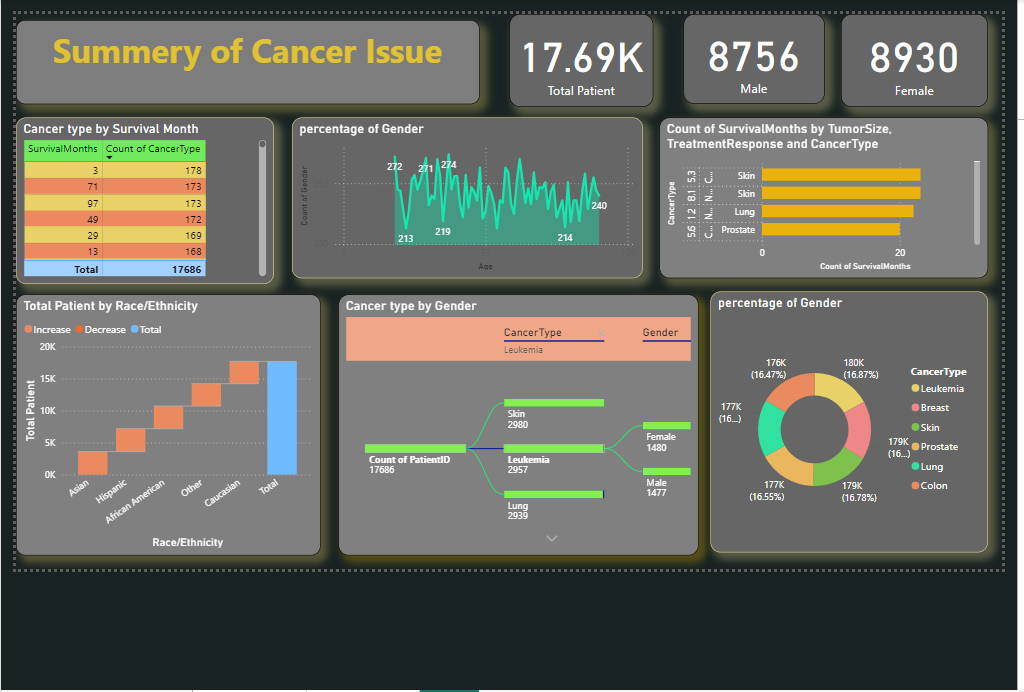

The page's visual inventory and layout, read from the dashboard file:
{"tool":"powerbi","page":{"name":"Page 1","canvas":[1280,720],"ordinal":1},"visuals":[{"type":"card","fields":{"Values":["CountNonNull(cancer issue (1).PatientID)"]},"box":[640.6,0,186.9,120.7],"z":0},{"type":"card","fields":{"Values":["CountNonNull(cancer issue (1).Gender)"]},"box":[1071,0,190.8,120.7],"z":1000},{"type":"card","fields":{"Values":["CountNonNull(cancer issue (1).PatientID)"]},"box":[866.5,0,183,116.8],"z":2000},{"type":"tableEx","title":"Cancer type by Survival Month","fields":{"Values":["cancer issue (1).SurvivalMonths","CountNonNull(cancer issue (1).CancerType)"]},"box":[0,134.4,334.9,216.1],"z":3000},{"type":"textbox","box":[0,7.8,601.7,109],"z":4000},{"type":"waterfallChart","fields":{"Category":["cancer issue (1).Race/Ethnicity"],"Y":["CountNonNull(cancer issue (1).PatientID)"]},"box":[0,364.1,395.3,338.8],"z":5000},{"type":"donutChart","title":"percentage of Gender","fields":{"Category":["cancer issue (1).CancerType"],"Y":["Sum(cancer issue (1).SurvivalMonths)"]},"box":[901.6,360.2,360.2,338.8],"z":6000},{"type":"decompositionTreeVisual","title":"Cancer type by Gender","fields":{"Analyze":["CountNonNull(cancer issue (1).PatientID)"],"ExplainBy":["cancer issue (1).CancerType","cancer issue (1).Gender"]},"box":[418.7,364.1,467.3,338.8],"z":7000},{"type":"barChart","fields":{"Category":["cancer issue (1).TumorSize","cancer issue (1).TreatmentResponse","cancer issue (1).CancerType"],"Y":["CountNonNull(cancer issue (1).SurvivalMonths)"]},"box":[835.4,134.4,426.5,208.4],"z":8000},{"type":"areaChart","title":"percentage of Gender","fields":{"Category":["cancer issue (1).Age"],"Y":["CountNonNull(cancer issue (1).Gender)"]},"box":[358.3,134.4,455.7,208.4],"z":9000}]}

Visuals, with their boxes in screenshot pixels (x1, y1, x2, y2):
card - CountNonNull(cancer issue (1).PatientID): [x1=527, y1=8, x2=674, y2=103]
card - CountNonNull(cancer issue (1).Gender): [x1=866, y1=8, x2=1017, y2=103]
card - CountNonNull(cancer issue (1).PatientID): [x1=705, y1=8, x2=849, y2=100]
"Cancer type by Survival Month" tableEx: [x1=21, y1=114, x2=286, y2=285]
textbox: [x1=21, y1=14, x2=496, y2=100]
waterfallChart - cancer issue (1).Race/Ethnicity x CountNonNull(cancer issue (1).PatientID): [x1=21, y1=295, x2=333, y2=563]
"percentage of Gender" donutChart: [x1=733, y1=292, x2=1017, y2=559]
"Cancer type by Gender" decompositionTreeVisual: [x1=352, y1=295, x2=720, y2=563]
barChart - cancer issue (1).TumorSize x cancer issue (1).TreatmentResponse: [x1=680, y1=114, x2=1017, y2=278]
"percentage of Gender" areaChart: [x1=304, y1=114, x2=664, y2=278]
